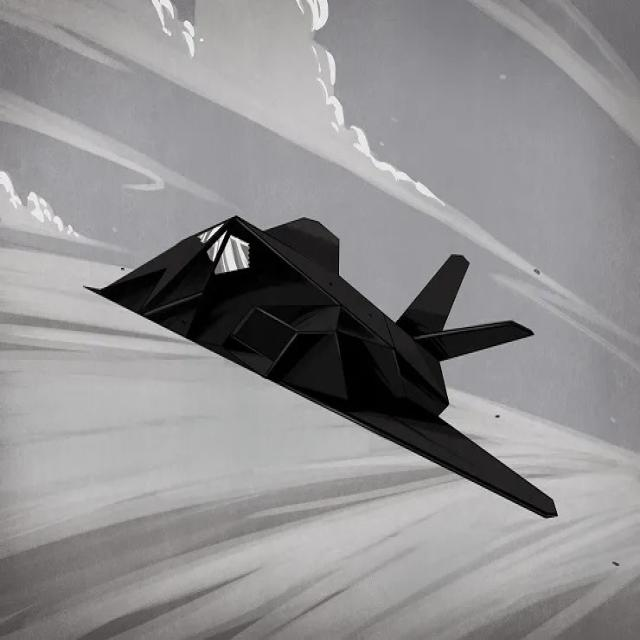F117: (78, 170, 571, 535)
